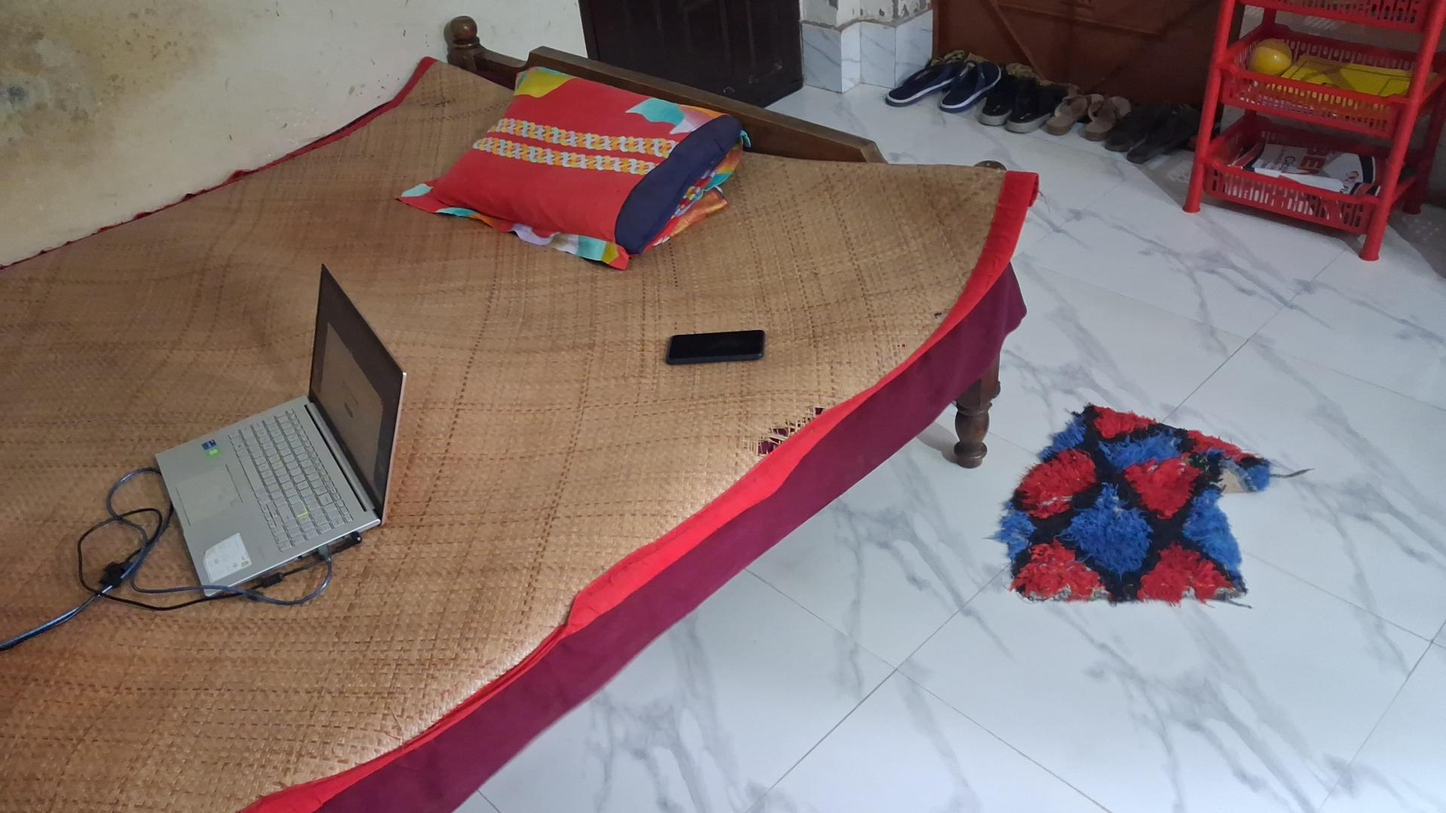Floor Mat: (1006, 396, 1272, 605)
Footwear: (886, 56, 1000, 111), (978, 76, 1068, 133), (1048, 92, 1128, 141)
Laptop: (153, 264, 407, 598)
Phone: (666, 320, 767, 372)
Pillow: (393, 66, 753, 273)
Rack: (1187, 54, 1402, 262)
